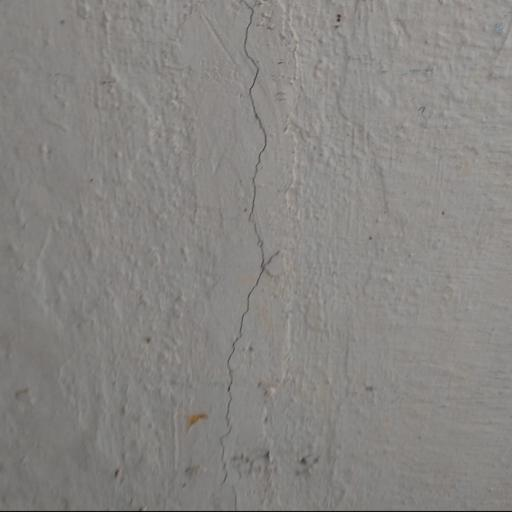minor_crack: (218, 0, 286, 512)
